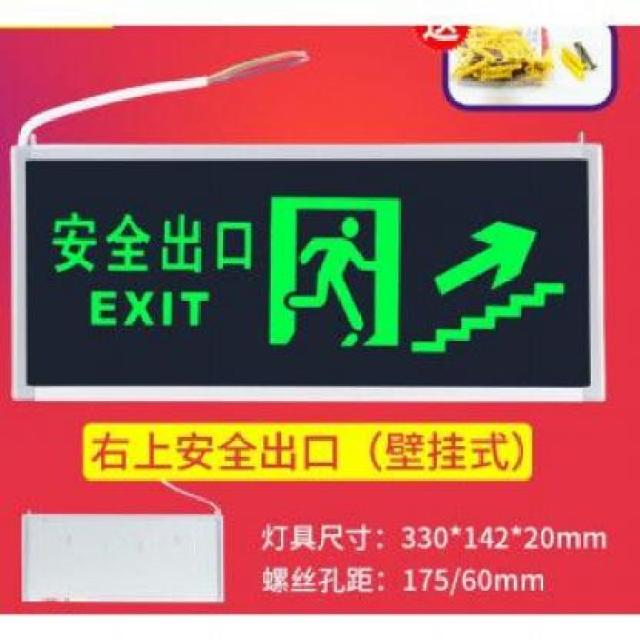exit_sign: (11, 128, 612, 412)
